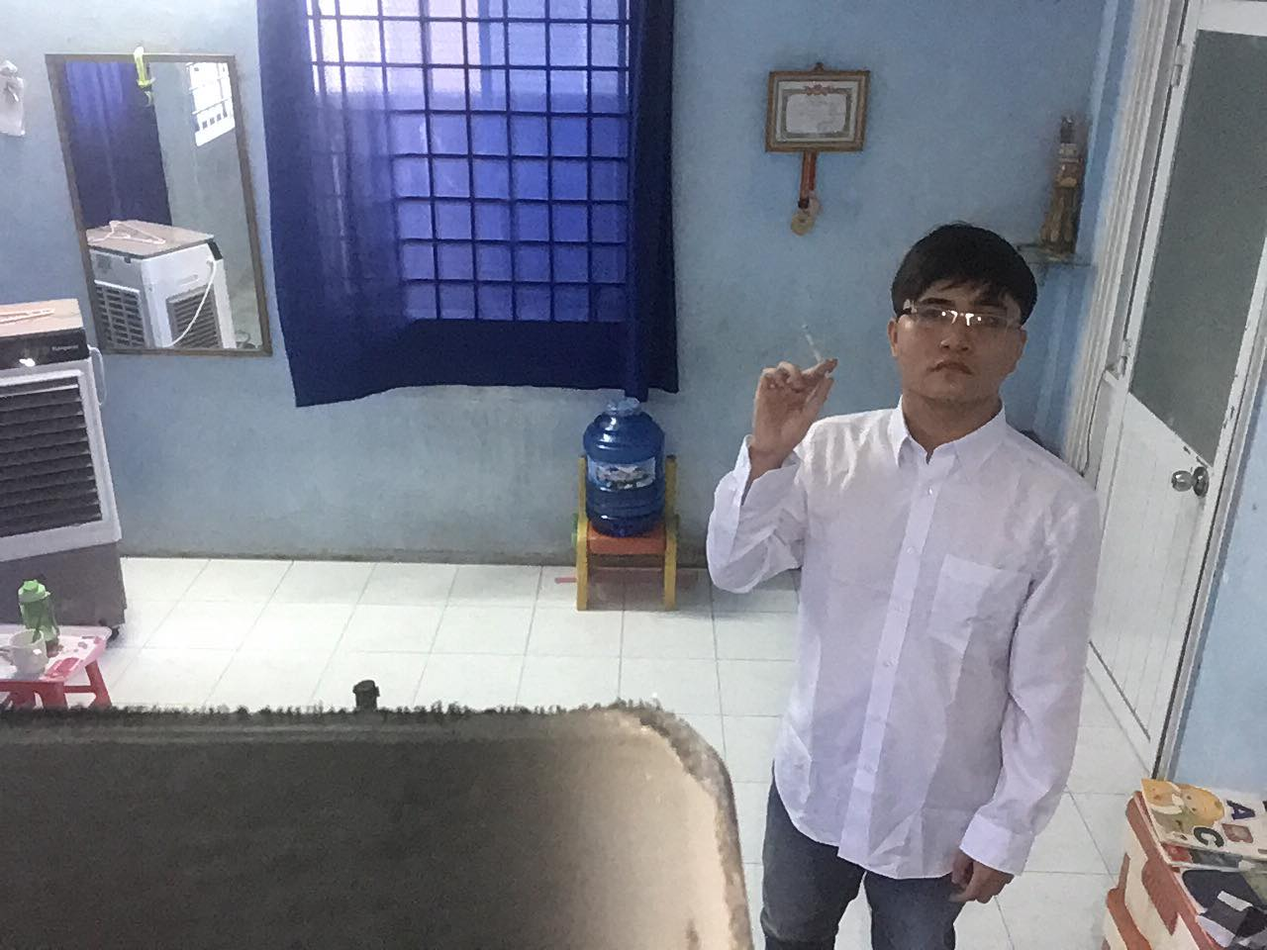cigarette: (800, 311, 845, 387)
person: (701, 202, 1127, 950)
